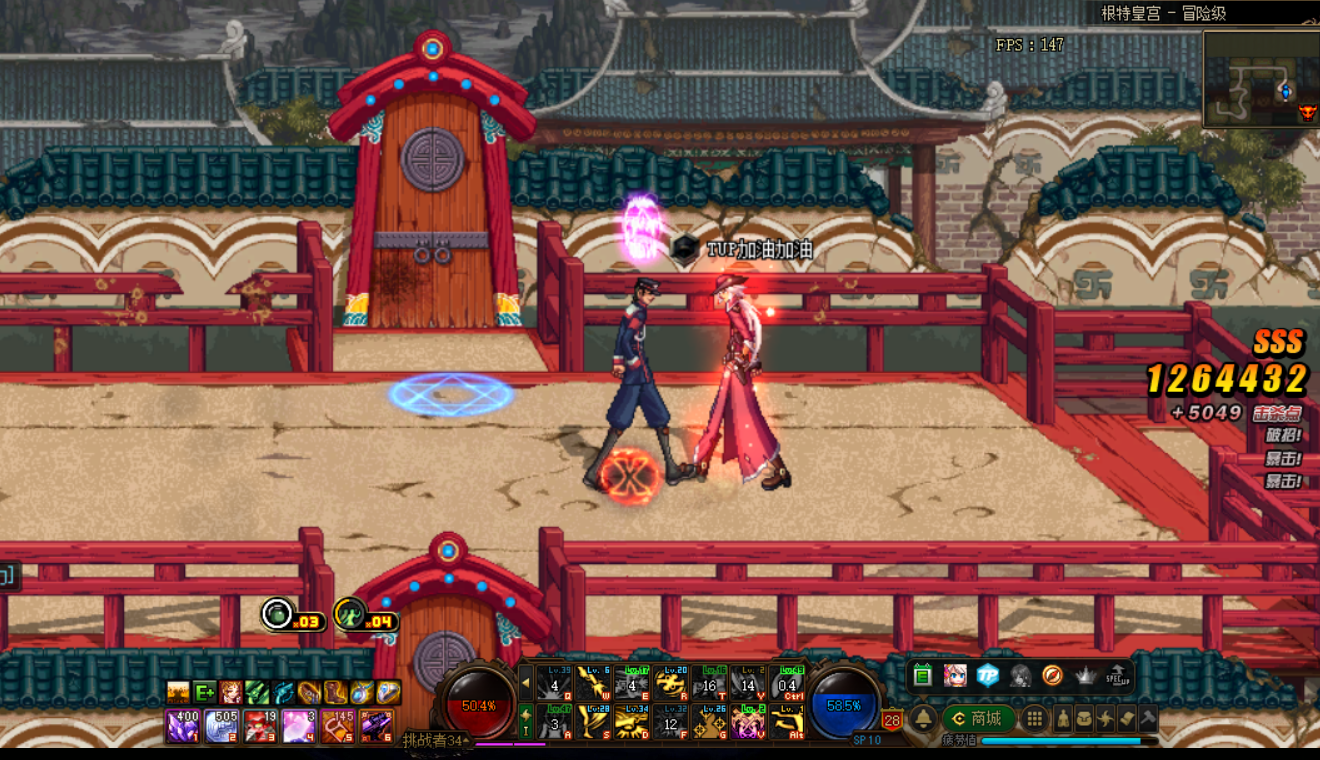monster: (583, 267, 699, 497)
warrior: (700, 265, 803, 506)
